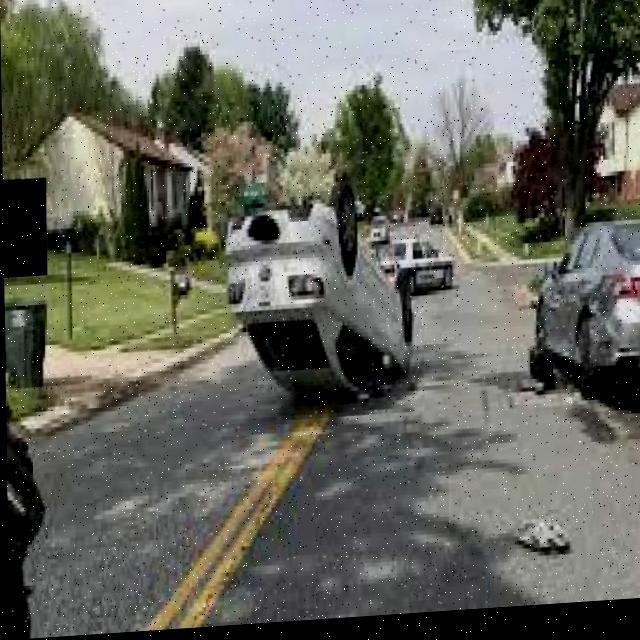multiple_accident: (217, 180, 640, 396)
normal: (359, 190, 454, 297)
